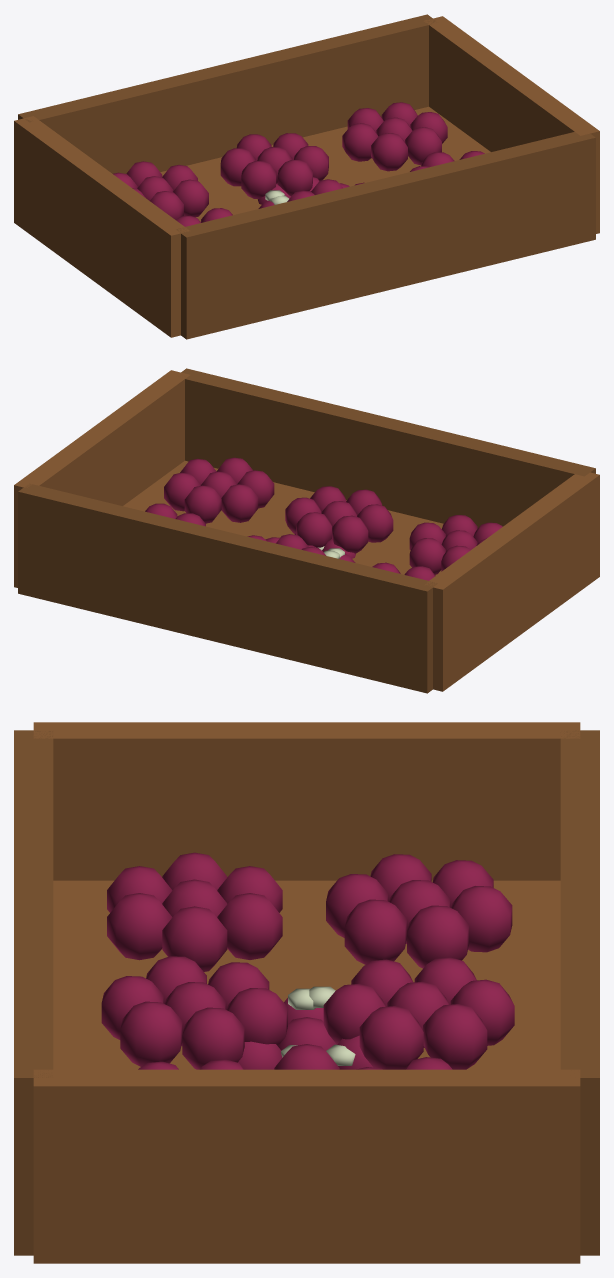
File: Fruit_WildBerry.fbx
3 views of the same model, one above another, from view 1: azimuth 30°, elevation 25°; view 2: azimuth 150°, elevation 25°; view 3: azimuth 270°, elevation 25° (orthographic). The views are drawn at different scales.
Parts seen in each view (by area): view 1: Fruit_WildBerry__Stack; view 2: Fruit_WildBerry__Stack; view 3: Fruit_WildBerry__Stack, Fruit_WildBerry, Fruit_WildBerry__Rotten.
Part boxes in pixels (bbox=[...]): Fruit_WildBerry__Stack: bbox=[14, 14, 599, 339]; Fruit_WildBerry__Stack: bbox=[14, 368, 599, 693]; Fruit_WildBerry__Stack: bbox=[14, 722, 599, 1263]; Fruit_WildBerry: bbox=[238, 998, 373, 1069]; Fruit_WildBerry__Rotten: bbox=[281, 986, 355, 1065].
Size of the model in its own units: 0.1759 by 0.04 by 0.1197.
